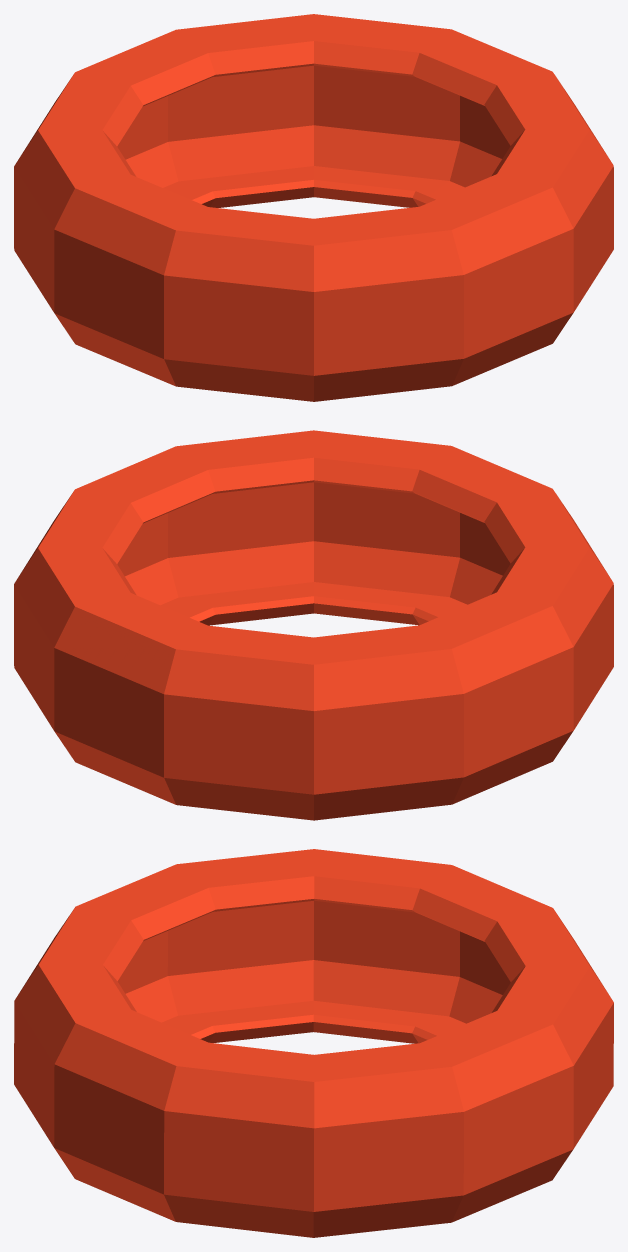
Rendered from SM_Tire_City.fbx.
3 renders of one model, top to bottom at view 1: azimuth 30°, elevation 25°; view 2: azimuth 150°, elevation 25°; view 3: azimuth 270°, elevation 25°, orthographic.
Visible parts, largest first — view 1: SM_Tire_City; view 2: SM_Tire_City; view 3: SM_Tire_City.
Boxes of the visible parts, x1,y1,x2,y2 form: SM_Tire_City: (14,14,613,401); SM_Tire_City: (14,430,613,820); SM_Tire_City: (14,849,613,1237).
Bounding box in the file's own units: 0.7473 × 0.2166 × 0.7478.
